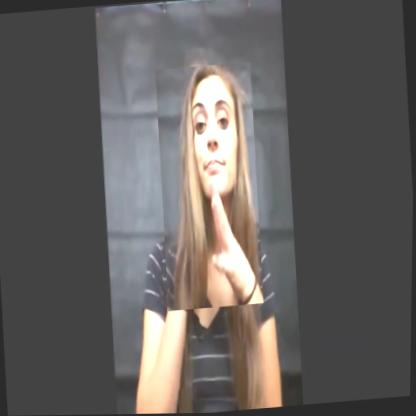Talk: (153, 63, 268, 312)
